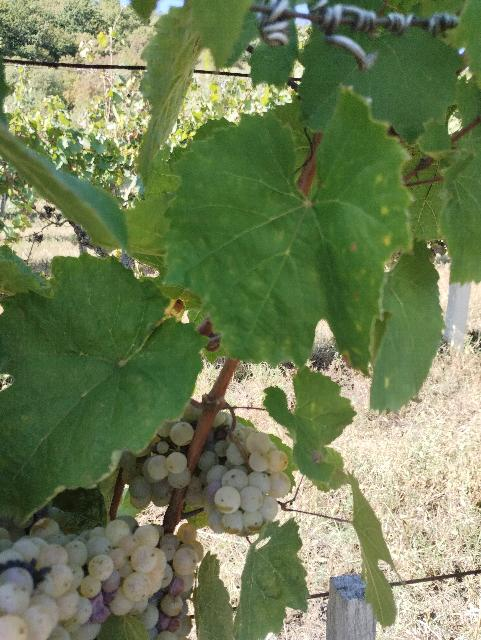grapes: (0, 506, 204, 640), (120, 412, 291, 536)
